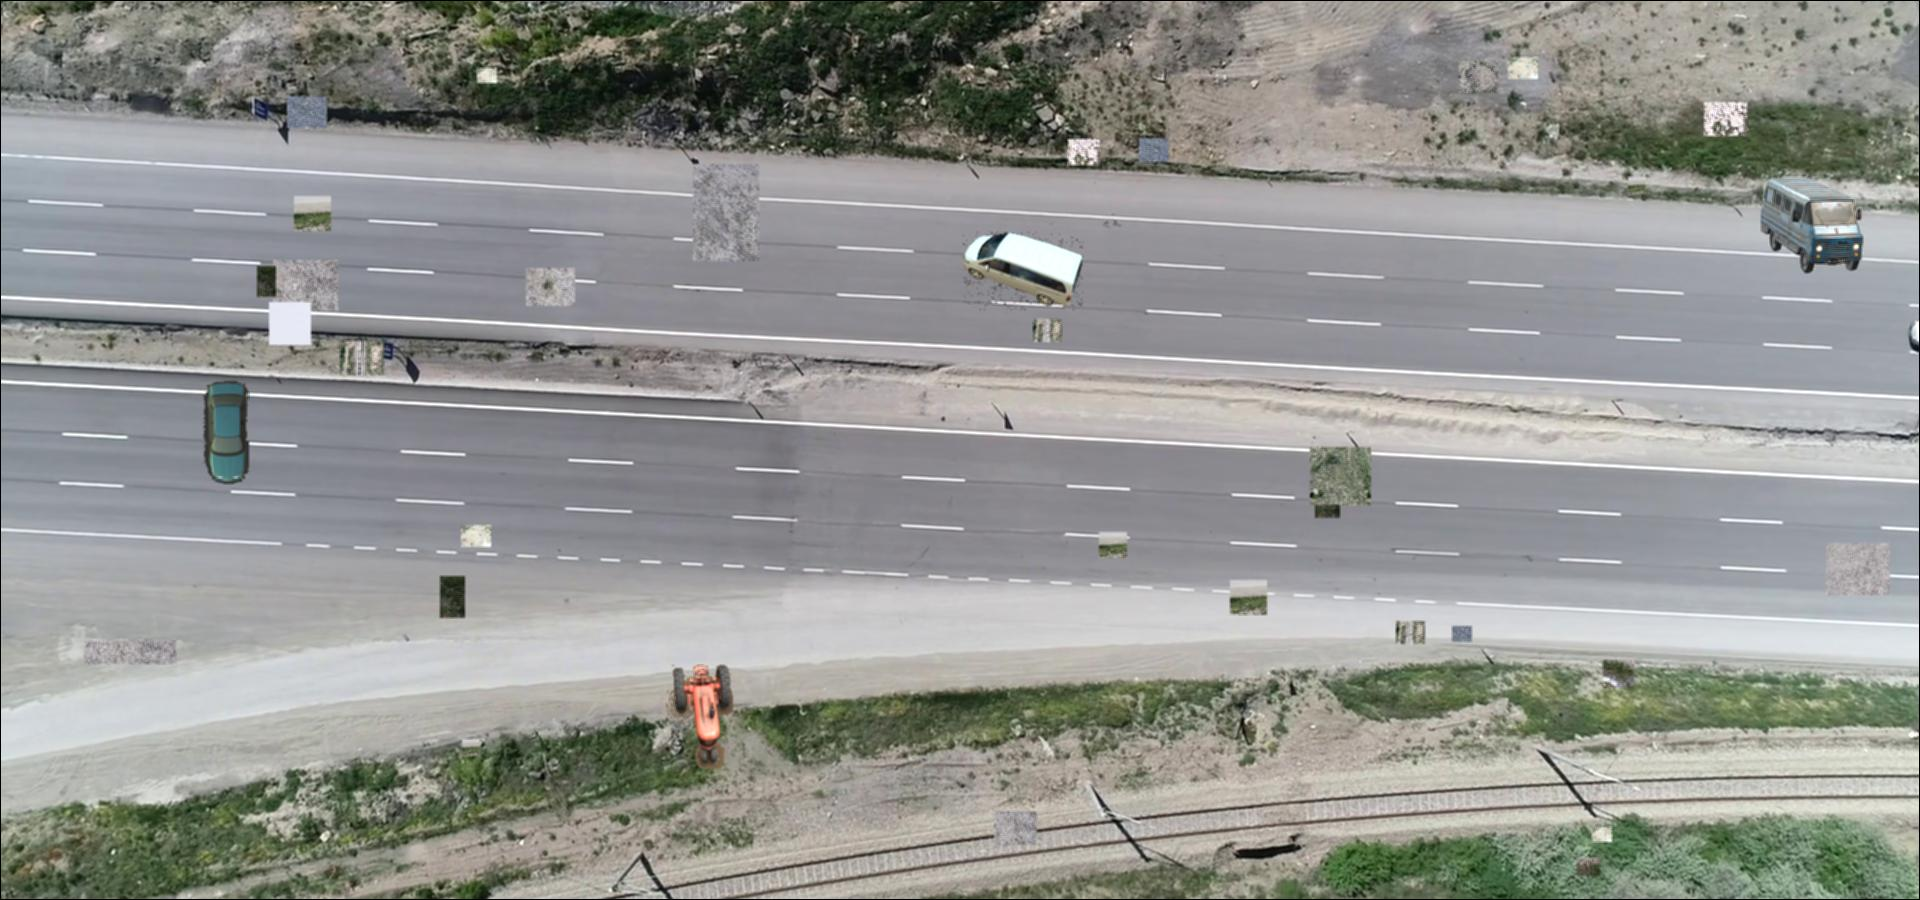arac: (1757, 175, 1867, 276), (962, 231, 1082, 310), (666, 664, 733, 769), (203, 381, 249, 484)
